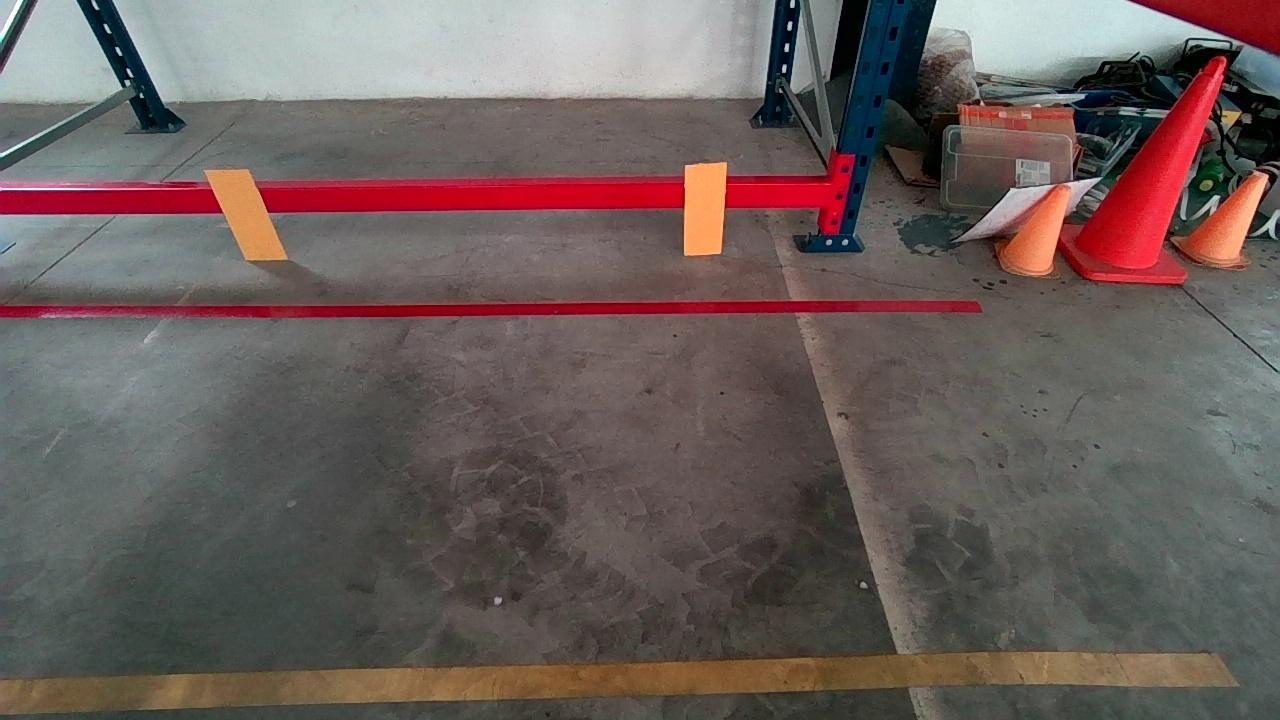h_rack: (5, 178, 838, 219)
orange_strip: (206, 168, 286, 260), (683, 162, 726, 255)
red_line: (4, 293, 979, 325)
yellow_line: (8, 646, 1228, 716)
